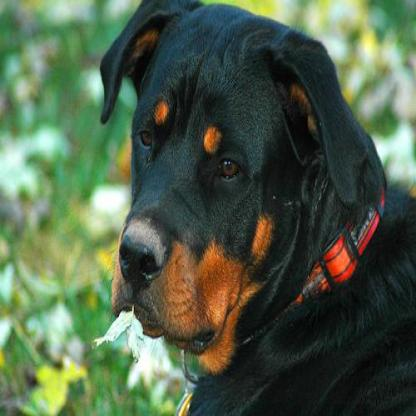Rottweiler: (99, 0, 414, 414)
